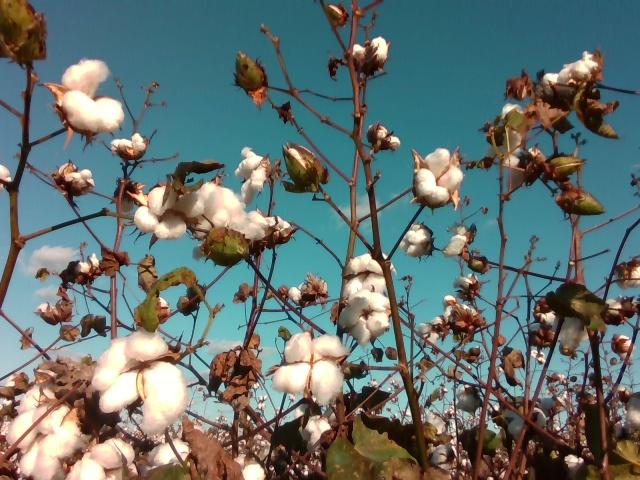cotton_ready: (92, 329, 189, 437), (5, 382, 91, 480), (269, 334, 351, 407), (57, 58, 123, 130), (189, 180, 246, 242), (412, 145, 465, 209), (335, 290, 391, 348), (67, 437, 141, 480), (542, 47, 604, 98), (133, 187, 187, 241), (344, 250, 398, 298), (224, 211, 292, 243), (235, 147, 268, 207), (146, 441, 194, 480), (553, 310, 596, 352), (285, 144, 320, 188), (350, 33, 389, 72), (442, 219, 473, 259), (401, 222, 433, 259), (231, 454, 266, 480)
